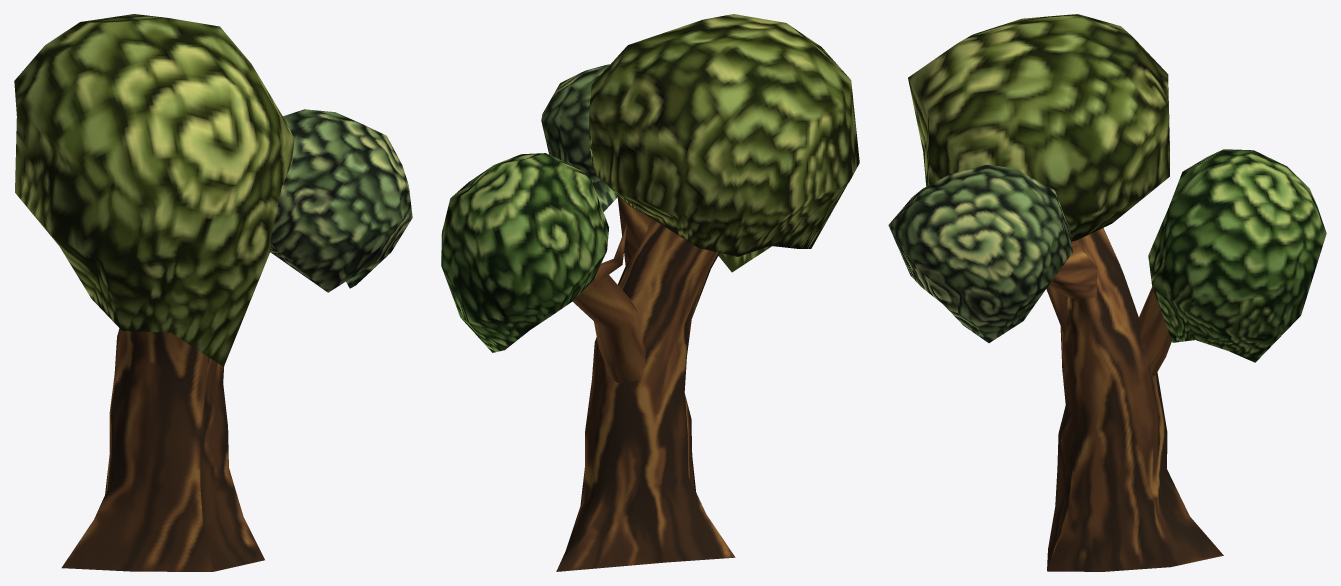
Rendered from Ntree_1.fbx.
3 renders of one model, left to right at view 1: azimuth 30°, elevation 25°; view 2: azimuth 150°, elevation 25°; view 3: azimuth 270°, elevation 25°, orthographic. The views are drawn at different scales.
Visible parts, largest first — view 1: Ntree_1; view 2: Ntree_1; view 3: Ntree_1.
Boxes of the visible parts, left/top/right/bottom form: Ntree_1: left=14, top=14, right=412, bottom=571; Ntree_1: left=441, top=14, right=859, bottom=571; Ntree_1: left=888, top=14, right=1326, bottom=571.
Size of the model in its own units: 121 by 191 by 154.
